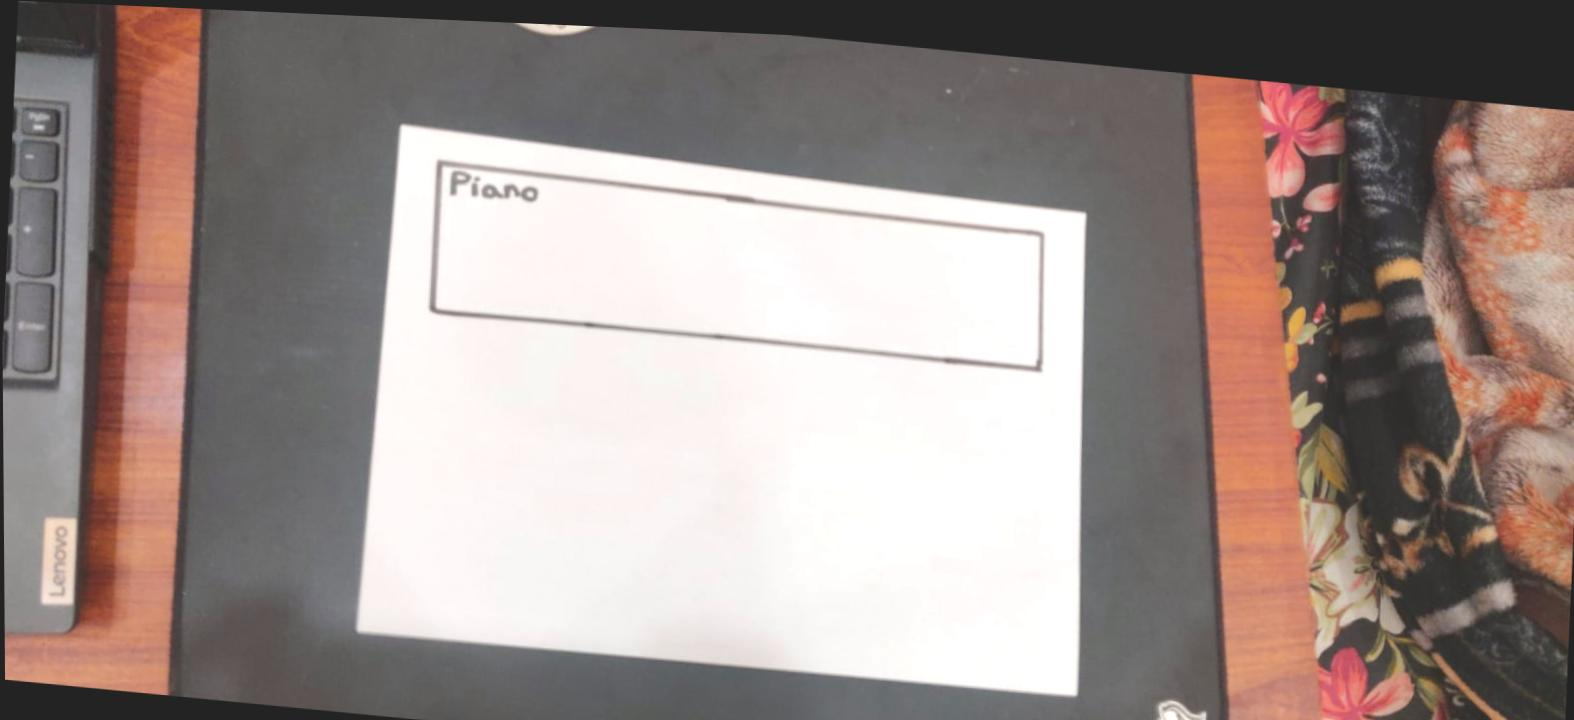paper-piano: (430, 158, 1046, 359)
